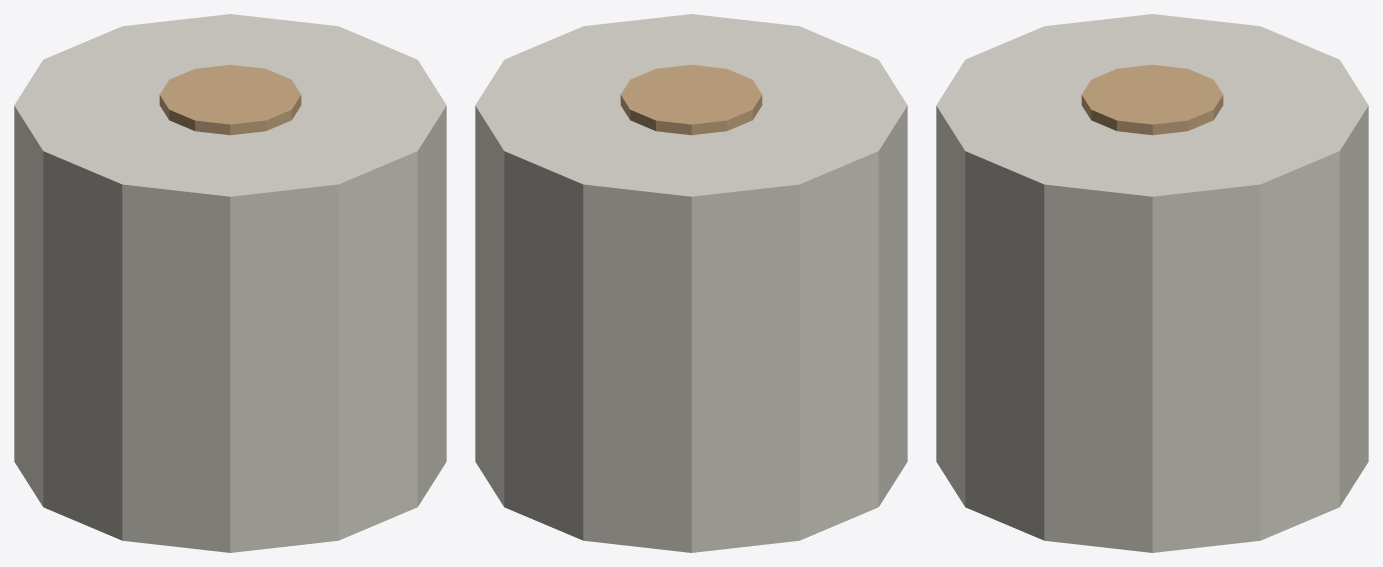
Rendered from supermarket-operations-toilet-roll-158bbea5__26939.glb.
3 views of the same model, side by side, from view 1: azimuth 30°, elevation 25°; view 2: azimuth 150°, elevation 25°; view 3: azimuth 270°, elevation 25° (orthographic).
Parts seen in each view (by area): view 1: toilet-roll; view 2: toilet-roll; view 3: toilet-roll.
Part boxes in pixels (x1,y1,x2,y2): toilet-roll: [14, 14, 446, 552]; toilet-roll: [475, 14, 907, 552]; toilet-roll: [936, 14, 1368, 552].
Bounding box in the file's own units: 0.11 × 0.103 × 0.11.
